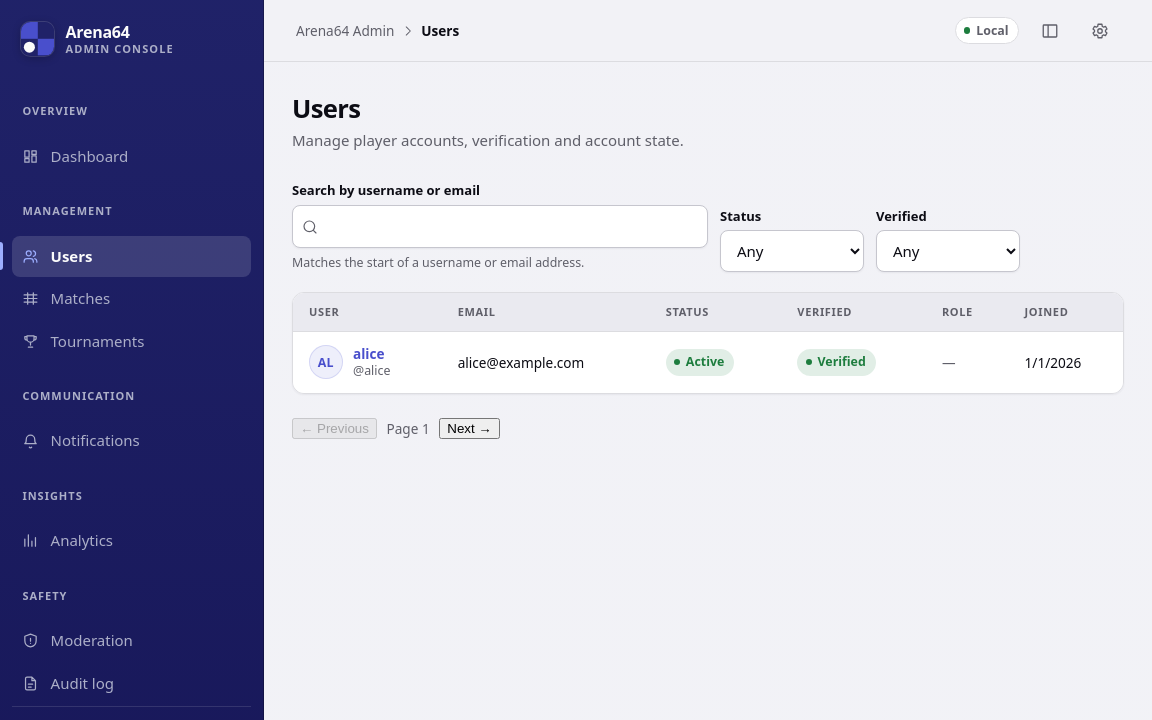
walks forward with the server's cursor and back without asking for one
The image size is (1152, 720).
Expected: the table is shown, [293,293,1124,393]
Click the button "Next →": (470, 428) [439,418,500,439]
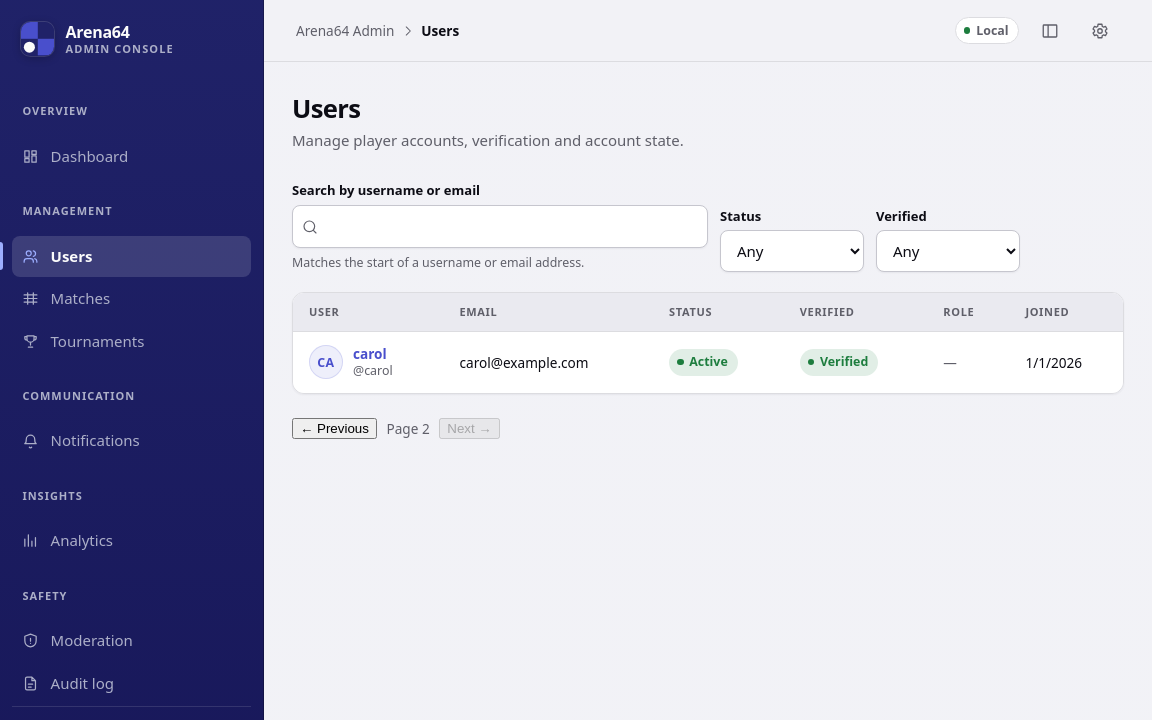
Expected: the text "carol" is shown, [353,345,393,363]
Expected: the link "alice" is gone
Expected: the text "Page 2" is shown, [386,418,430,439]
Click the button "← Previous": (334, 428) [292,418,377,439]
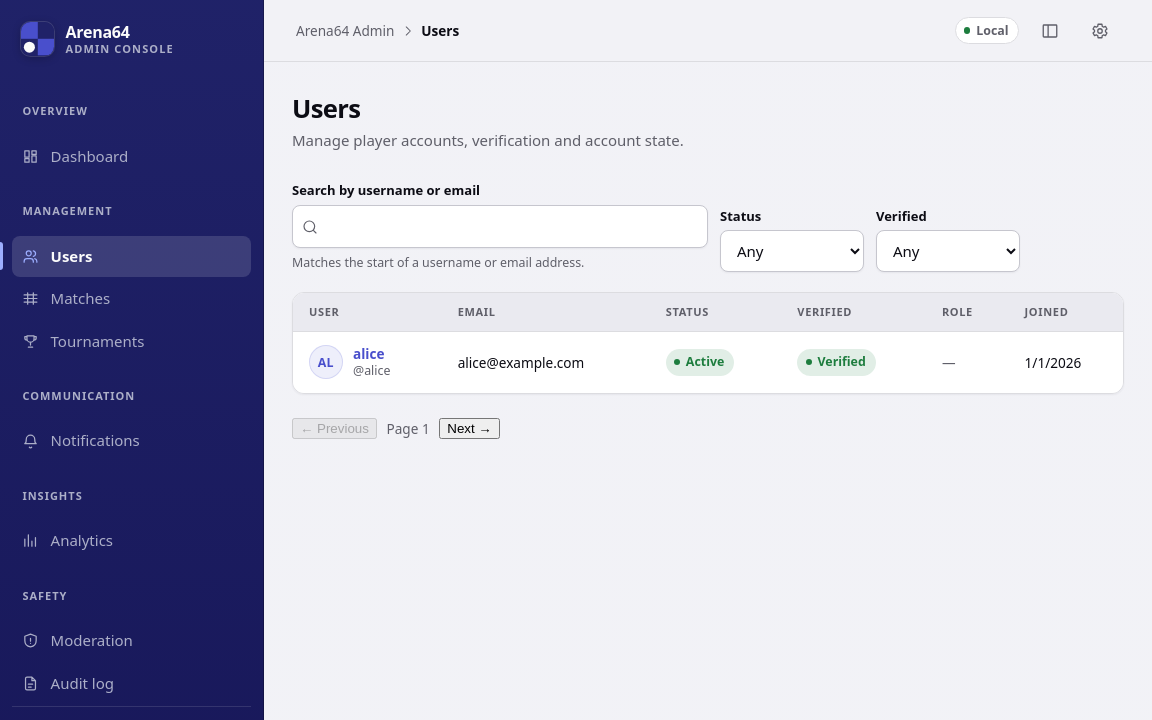
Expected: the text "alice" is shown, [353,344,384,363]
